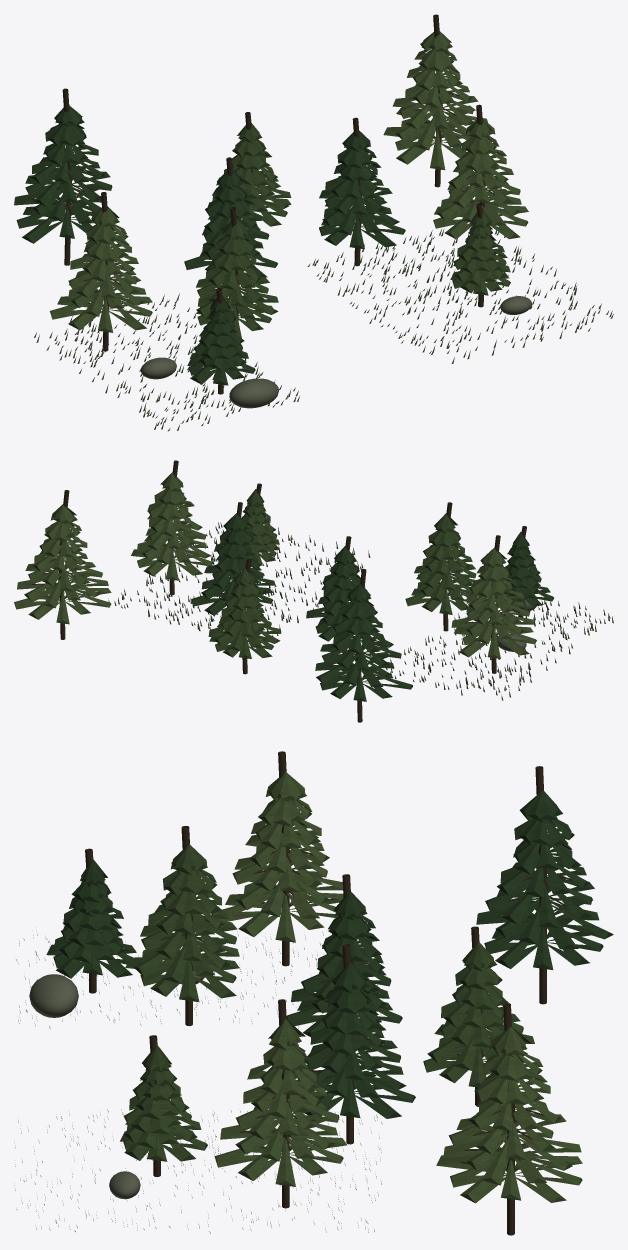
The model's file is woodland-v1.glb.
3 views of the same model, one above another, from view 1: azimuth 30°, elevation 25°; view 2: azimuth 150°, elevation 25°; view 3: azimuth 270°, elevation 25° (orthographic). The views are drawn at different scales.
Parts seen in each view (by area): view 1: Pine canopy.009, Pine canopy.008, Pine canopy.002, Pine canopy.005, Grass blades, Pine canopy.006, Pine canopy.001, Pine canopy, Pine canopy.003, Pine canopy.007, Pine canopy.004, Verge boulder (+1 smaller); view 2: Pine canopy.008, Pine canopy.009, Pine canopy.002, Pine canopy.005, Pine canopy.001, Grass blades, Pine canopy.007, Pine canopy.006, Pine canopy.003, Pine canopy, Pine canopy.004, Tapered trunk.009 (+1 smaller); view 3: Pine canopy.008, Pine canopy.009, Pine canopy.002, Pine canopy.005, Pine canopy.001, Pine canopy.006, Pine canopy.007, Pine canopy.003, Pine canopy, Pine canopy.004, Verge boulder, Grass blades (+3 smaller).
Part boxes in pixels (<box>): Pine canopy.009: <box>14,105,112,243</box>; Pine canopy.008: <box>383,31,487,169</box>; Pine canopy.002: <box>50,206,152,332</box>; Pine canopy.005: <box>433,118,528,239</box>; Grass blades: <box>34,228,613,431</box>; Pine canopy.006: <box>319,131,405,249</box>; Pine canopy.001: <box>196,220,278,338</box>; Pine canopy: <box>187,295,255,385</box>; Pine canopy.003: <box>184,169,277,277</box>; Pine canopy.007: <box>212,123,291,226</box>; Pine canopy.004: <box>450,209,510,295</box>; Verge boulder: <box>140,296,531,408</box>; Pine canopy.008: <box>14,504,111,624</box>; Pine canopy.009: <box>315,583,412,701</box>; Pine canopy.002: <box>451,547,536,658</box>; Pine canopy.005: <box>131,472,212,580</box>; Pine canopy.001: <box>405,513,476,614</box>; Grass blades: <box>108,522,613,700</box>; Pine canopy.007: <box>208,567,281,658</box>; Pine canopy.006: <box>191,513,275,615</box>; Pine canopy.003: <box>306,546,378,641</box>; Pine canopy: <box>495,531,553,610</box>; Pine canopy.004: <box>237,489,279,565</box>; Tapered trunk.009: <box>329,569,386,722</box>; Pine canopy.008: <box>436,1026,582,1203</box>; Pine canopy.009: <box>476,790,613,969</box>; Pine canopy.002: <box>211,772,343,942</box>; Pine canopy.005: <box>214,1019,347,1186</box>; Pine canopy.001: <box>125,844,239,1002</box>; Pine canopy.006: <box>292,962,415,1118</box>; Pine canopy.007: <box>423,941,534,1087</box>; Pine canopy.003: <box>286,891,402,1036</box>; Pine canopy: <box>46,858,136,978</box>; Pine canopy.004: <box>120,1044,207,1161</box>; Verge boulder: <box>29,971,204,1199</box>; Grass blades: <box>14,931,382,1233</box>.
Size of what is drawn, in the model's own units: 24.18 by 8.29 by 18.65.
Materials: 5 (5 with a texture image).
